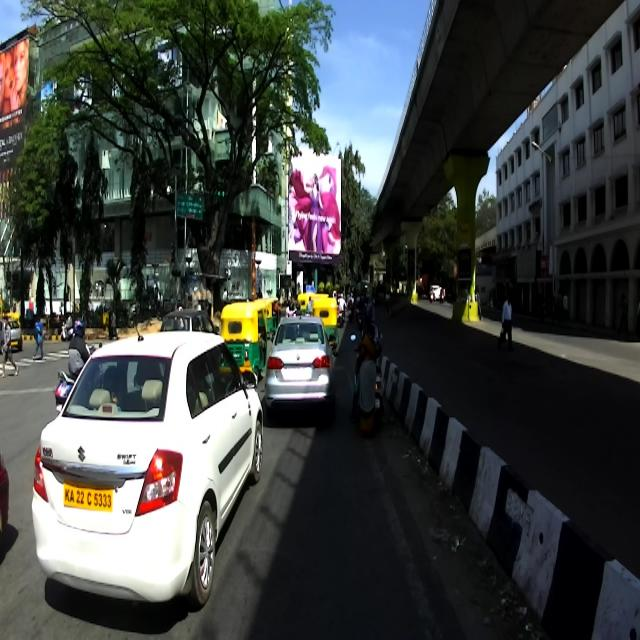Car: (160, 308, 218, 341)
Car_Maruti-Suzuki: (31, 328, 263, 611)
Car_TATA: (0, 317, 22, 352)
Car_Volkswagen: (264, 316, 336, 420)
autorickshaw: (220, 301, 268, 387), (312, 297, 338, 356), (255, 297, 279, 338), (297, 292, 313, 316), (312, 292, 328, 310)
motorcycle: (305, 310, 311, 318)
scooter: (53, 342, 102, 419), (350, 332, 384, 434)
